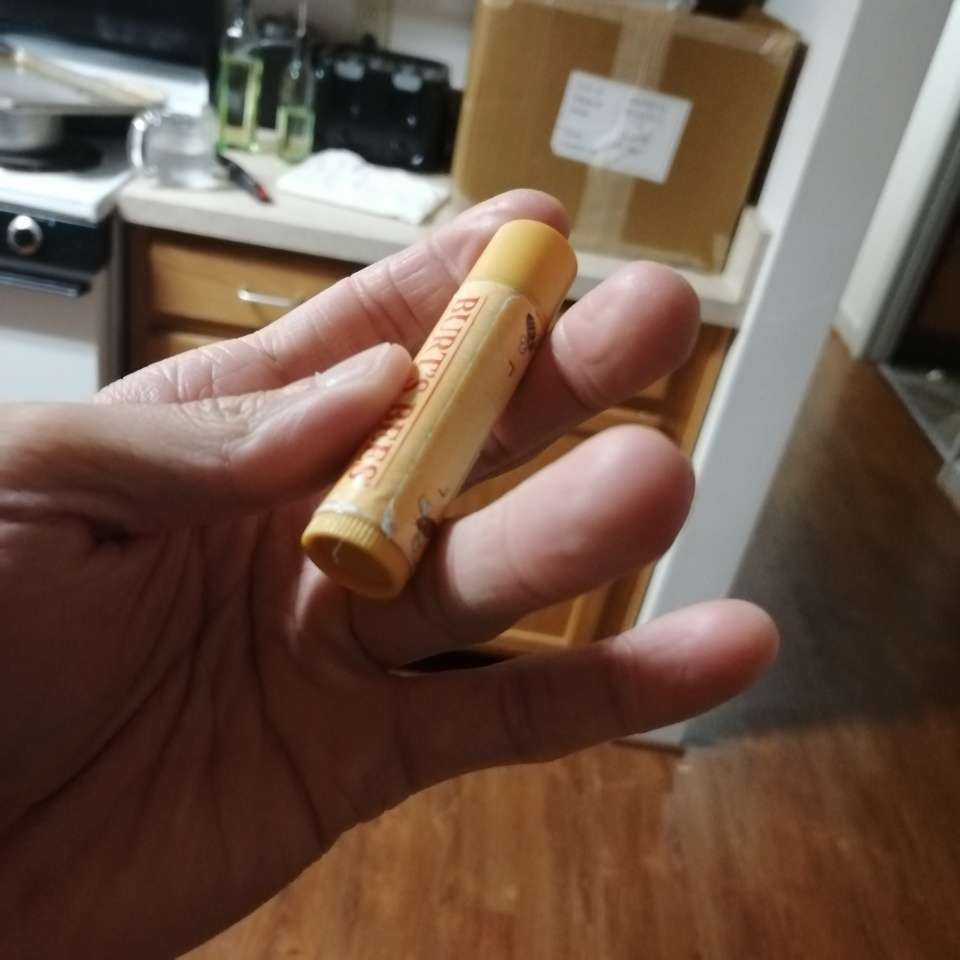chapstick: (299, 217, 581, 603)
